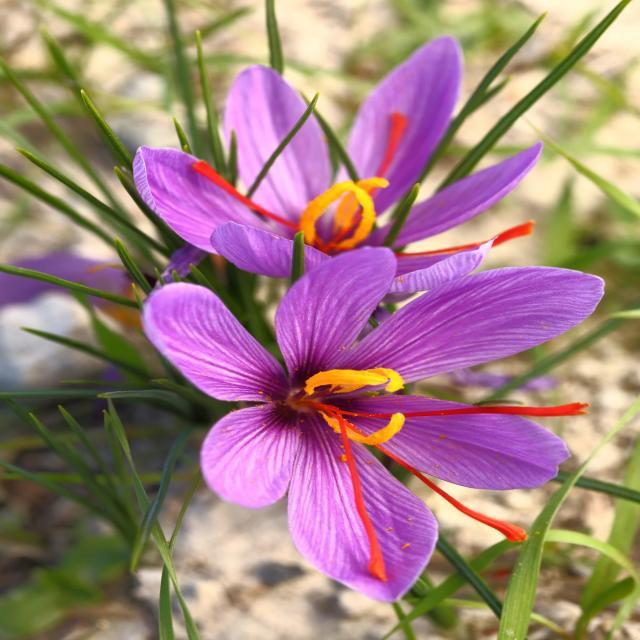Flower: (148, 264, 602, 590), (160, 57, 503, 249)
stigma: (402, 460, 518, 538), (330, 436, 392, 574), (195, 159, 298, 228), (309, 398, 597, 419), (398, 218, 538, 259), (371, 107, 409, 177)
